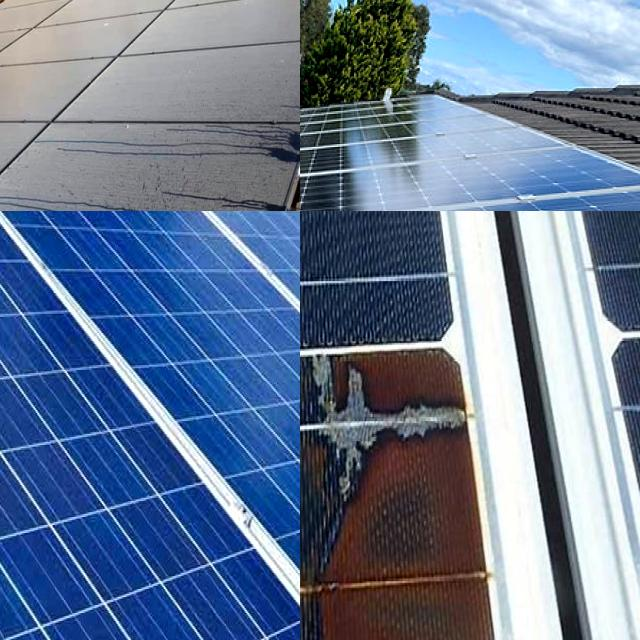crack: (0, 211, 300, 640), (300, 160, 439, 211)
dust: (90, 60, 294, 186), (96, 0, 300, 48), (0, 122, 105, 203), (95, 179, 273, 211), (0, 50, 76, 120), (23, 0, 77, 42)
shadow: (300, 340, 498, 640)
